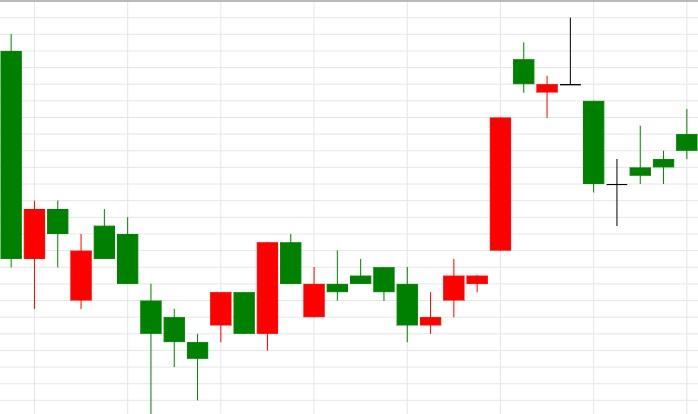hammer_rise: (93, 209, 162, 414)
